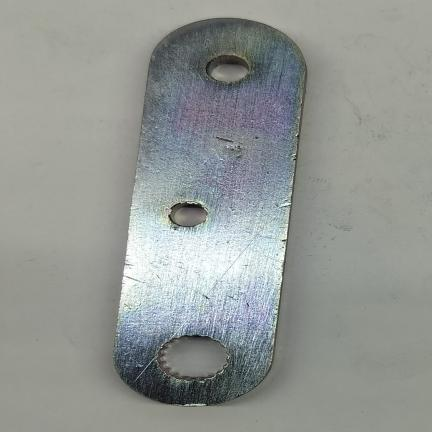line defect: (176, 208, 286, 331)
